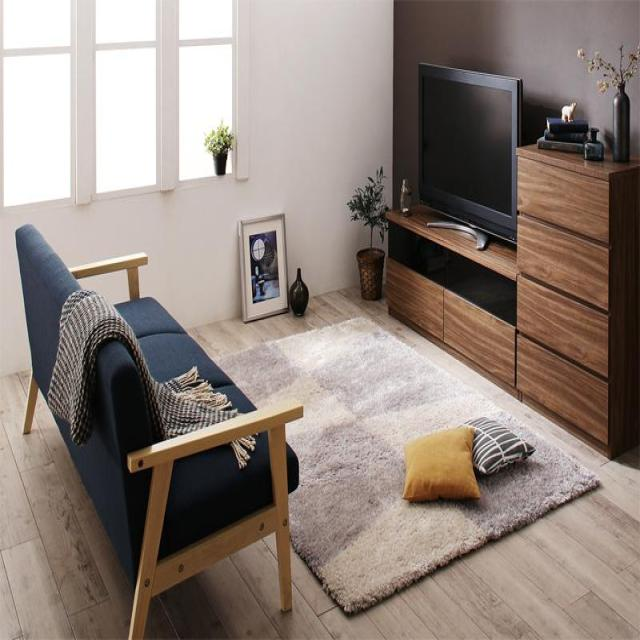natural shelf: (514, 141, 623, 460)
natural sofa: (8, 216, 296, 638)
